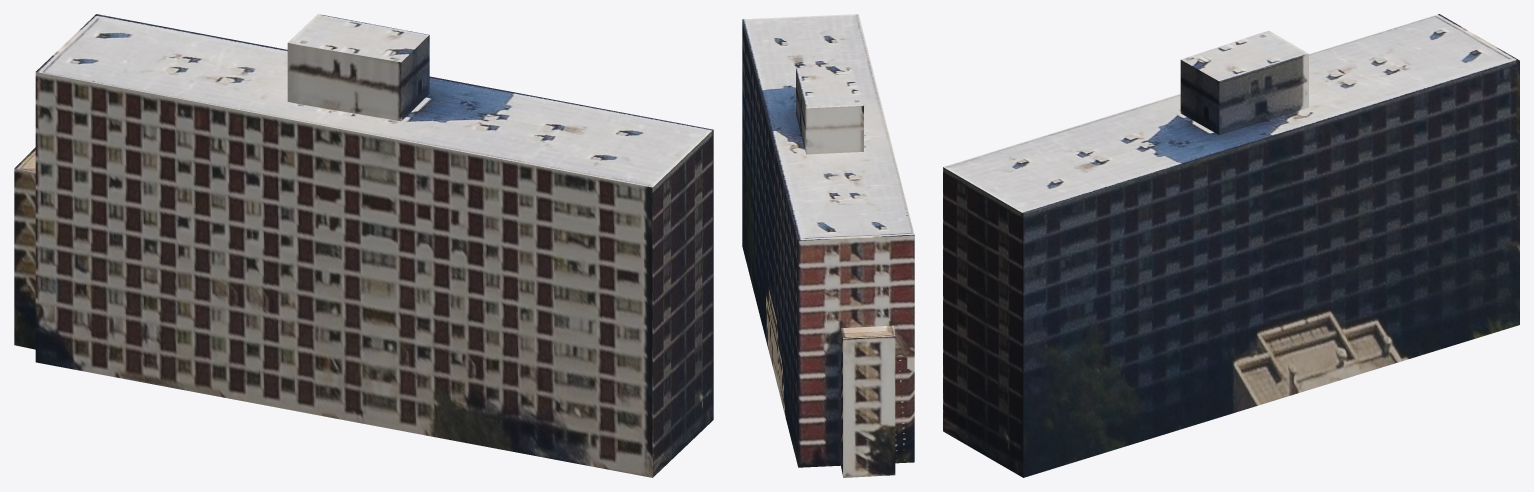
3 views of the same model, side by side, from view 1: azimuth 30°, elevation 25°; view 2: azimuth 150°, elevation 25°; view 3: azimuth 270°, elevation 25° (orthographic). The views are drawn at different scales.
Parts seen in each view (by area): view 1: node_8c84d229_2aac_47d6_ad62_478493fa49e9_mesh2, node_8c84d229_2aac_47d6_ad62_478493fa49e9_mesh1, node_8c84d229_2aac_47d6_ad62_478493fa49e9_mesh3, node_8c84d229_2aac_47d6_ad62_478493fa49e9_mesh12, node_8c84d229_2aac_47d6_ad62_478493fa49e9_mesh18, node_8c84d229_2aac_47d6_ad62_478493fa49e9_mesh7, node_8c84d229_2aac_47d6_ad62_478493fa49e9_mesh8, node_8c84d229_2aac_47d6_ad62_478493fa49e9_mesh11; view 2: node_8c84d229_2aac_47d6_ad62_478493fa49e9_mesh1, node_8c84d229_2aac_47d6_ad62_478493fa49e9_mesh5, node_8c84d229_2aac_47d6_ad62_478493fa49e9_mesh4, node_8c84d229_2aac_47d6_ad62_478493fa49e9_mesh17, node_8c84d229_2aac_47d6_ad62_478493fa49e9_mesh10, node_8c84d229_2aac_47d6_ad62_478493fa49e9_mesh7, node_8c84d229_2aac_47d6_ad62_478493fa49e9_mesh14, node_8c84d229_2aac_47d6_ad62_478493fa49e9_mesh9, node_8c84d229_2aac_47d6_ad62_478493fa49e9_mesh16; view 3: node_8c84d229_2aac_47d6_ad62_478493fa49e9_mesh4, node_8c84d229_2aac_47d6_ad62_478493fa49e9_mesh1, node_8c84d229_2aac_47d6_ad62_478493fa49e9_mesh3, node_8c84d229_2aac_47d6_ad62_478493fa49e9_mesh9, node_8c84d229_2aac_47d6_ad62_478493fa49e9_mesh7, node_8c84d229_2aac_47d6_ad62_478493fa49e9_mesh8.
Boxes of the visible parts, left/top/right/bottom form: node_8c84d229_2aac_47d6_ad62_478493fa49e9_mesh2: left=35, top=72, right=652, bottom=477; node_8c84d229_2aac_47d6_ad62_478493fa49e9_mesh1: left=36, top=14, right=712, bottom=187; node_8c84d229_2aac_47d6_ad62_478493fa49e9_mesh3: left=652, top=130, right=713, bottom=477; node_8c84d229_2aac_47d6_ad62_478493fa49e9_mesh12: left=299, top=45, right=401, bottom=121; node_8c84d229_2aac_47d6_ad62_478493fa49e9_mesh18: left=14, top=168, right=35, bottom=349; node_8c84d229_2aac_47d6_ad62_478493fa49e9_mesh7: left=288, top=14, right=428, bottom=62; node_8c84d229_2aac_47d6_ad62_478493fa49e9_mesh8: left=401, top=35, right=429, bottom=120; node_8c84d229_2aac_47d6_ad62_478493fa49e9_mesh11: left=287, top=43, right=299, bottom=103; node_8c84d229_2aac_47d6_ad62_478493fa49e9_mesh1: left=742, top=14, right=914, bottom=240; node_8c84d229_2aac_47d6_ad62_478493fa49e9_mesh5: left=798, top=235, right=914, bottom=467; node_8c84d229_2aac_47d6_ad62_478493fa49e9_mesh4: left=742, top=20, right=798, bottom=466; node_8c84d229_2aac_47d6_ad62_478493fa49e9_mesh17: left=843, top=337, right=895, bottom=477; node_8c84d229_2aac_47d6_ad62_478493fa49e9_mesh10: left=806, top=105, right=863, bottom=154; node_8c84d229_2aac_47d6_ad62_478493fa49e9_mesh7: left=796, top=65, right=863, bottom=108; node_8c84d229_2aac_47d6_ad62_478493fa49e9_mesh14: left=841, top=325, right=895, bottom=339; node_8c84d229_2aac_47d6_ad62_478493fa49e9_mesh9: left=796, top=69, right=805, bottom=152; node_8c84d229_2aac_47d6_ad62_478493fa49e9_mesh16: left=841, top=329, right=843, bottom=476; node_8c84d229_2aac_47d6_ad62_478493fa49e9_mesh4: left=1023, top=60, right=1519, bottom=477; node_8c84d229_2aac_47d6_ad62_478493fa49e9_mesh1: left=943, top=14, right=1519, bottom=213; node_8c84d229_2aac_47d6_ad62_478493fa49e9_mesh3: left=943, top=167, right=1023, bottom=477; node_8c84d229_2aac_47d6_ad62_478493fa49e9_mesh9: left=1219, top=54, right=1308, bottom=134; node_8c84d229_2aac_47d6_ad62_478493fa49e9_mesh7: left=1181, top=30, right=1308, bottom=81; node_8c84d229_2aac_47d6_ad62_478493fa49e9_mesh8: left=1180, top=60, right=1219, bottom=134.
Bounding box in the file's own units: 43936 × 53671 × 32651.
Materials: 1 (1 with a texture image).
